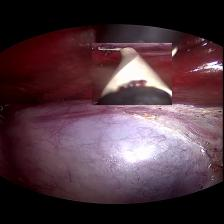Hook: (92, 42, 172, 104)
